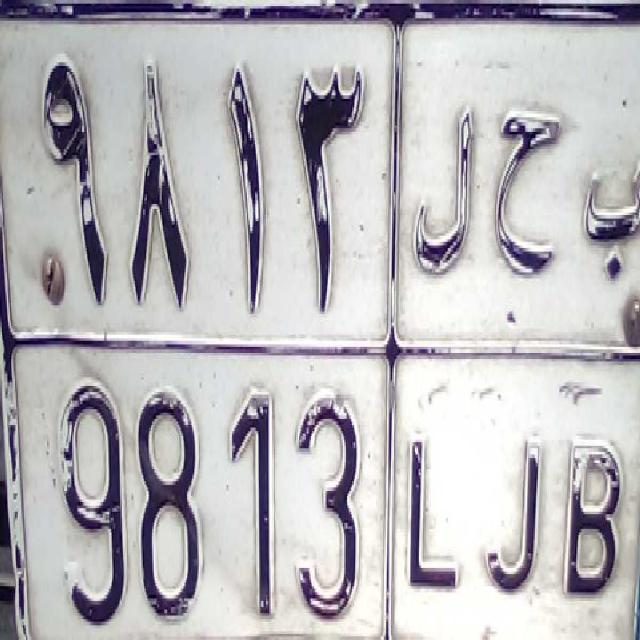license_plate: (36, 332, 634, 640)
